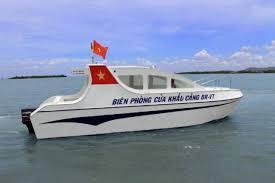Ship: (22, 65, 244, 140)
